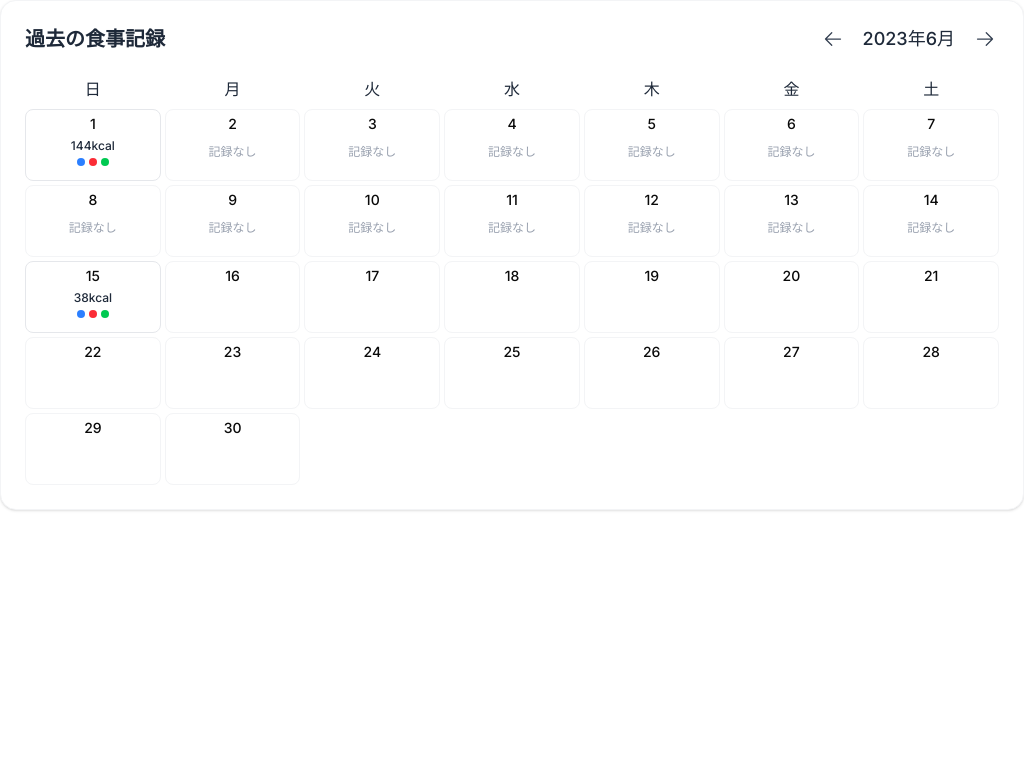
Scenario: MealHistory › 日付を選択すると詳細が表示されること
Check: the heading "過去の食事記録" is shown, box [25,25,165,53]
Click the element showing "1 144 kcal": (93, 145) [25,109,161,181]
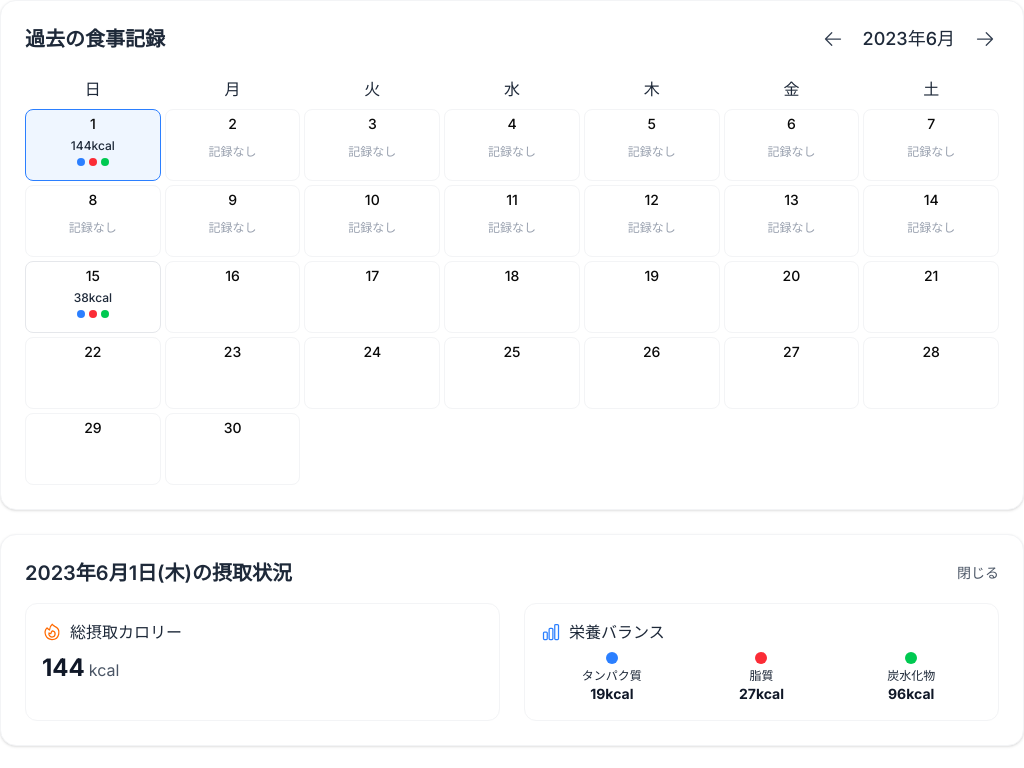
Check: the heading "2023年6月1日(木)の摂取状況" is shown, box [25,559,292,587]
Check: the heading "総摂取カロリー" is shown, box [70,620,182,644]
Check: the heading "栄養バランス" is shown, box [569,620,665,644]
